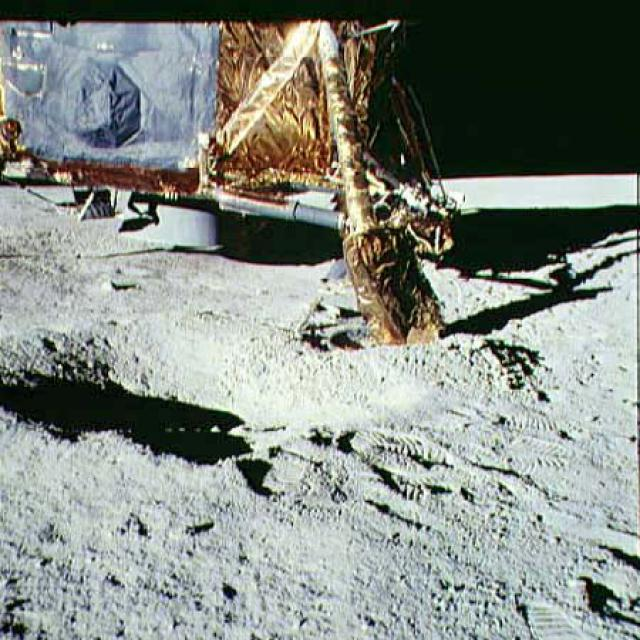artifact: (0, 16, 501, 344)
crater: (0, 311, 489, 467)
